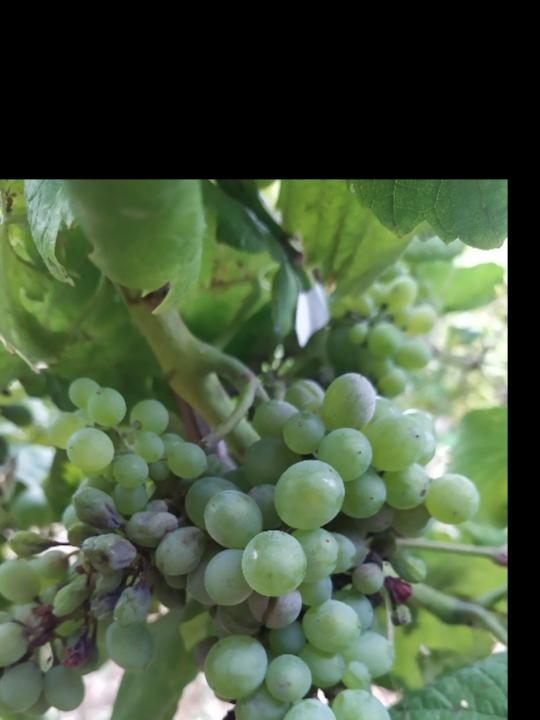grape: (0, 368, 482, 720)
